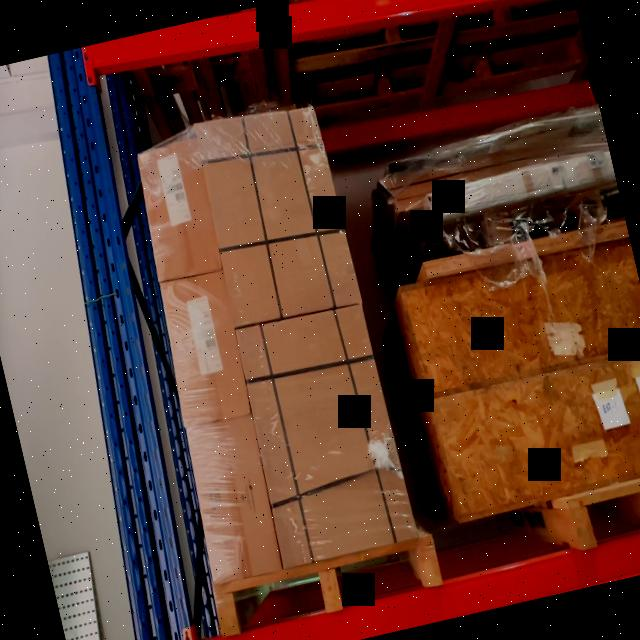box: (238, 304, 414, 562), (196, 100, 360, 326), (160, 272, 250, 427), (189, 426, 280, 578), (138, 144, 221, 280)
